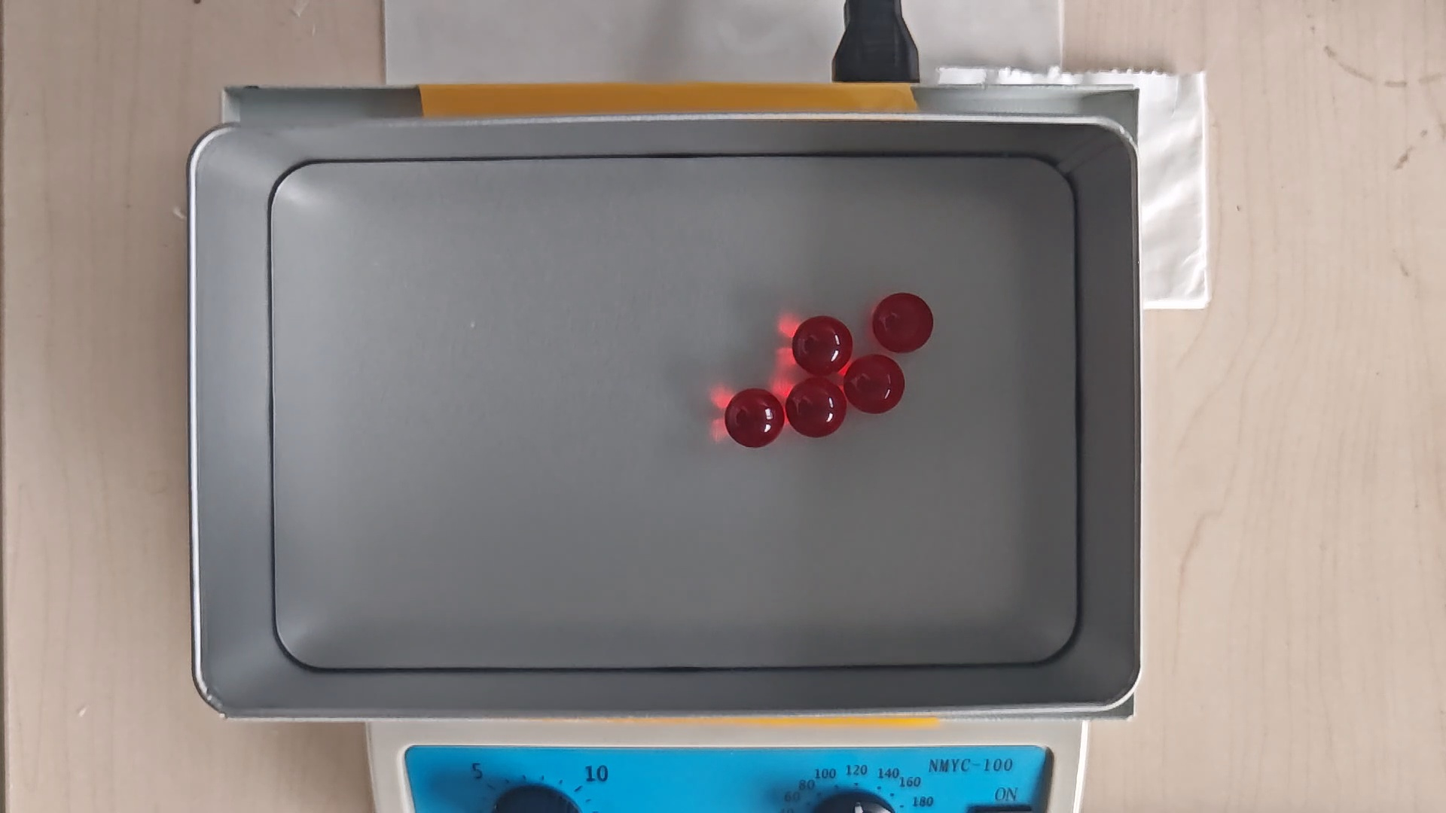ball: (871, 292, 934, 355), (784, 379, 847, 440), (845, 355, 905, 416), (725, 388, 785, 448), (792, 315, 852, 375)
container: (268, 156, 1080, 668)
